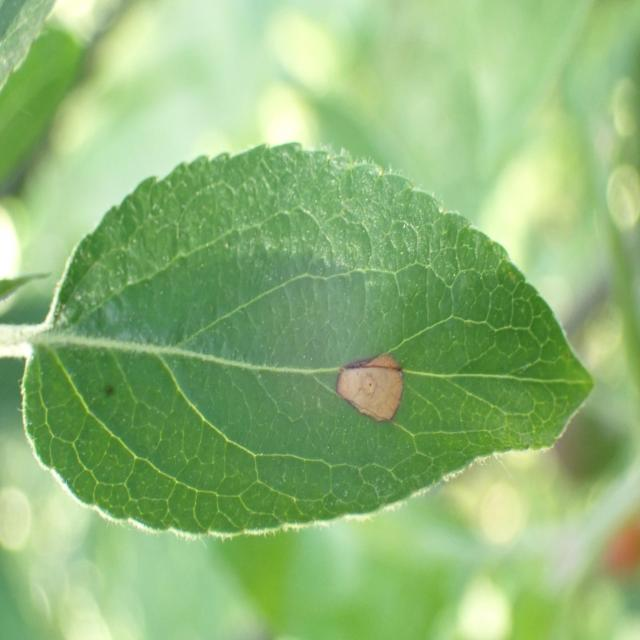Black Rot: (326, 330, 407, 428)
